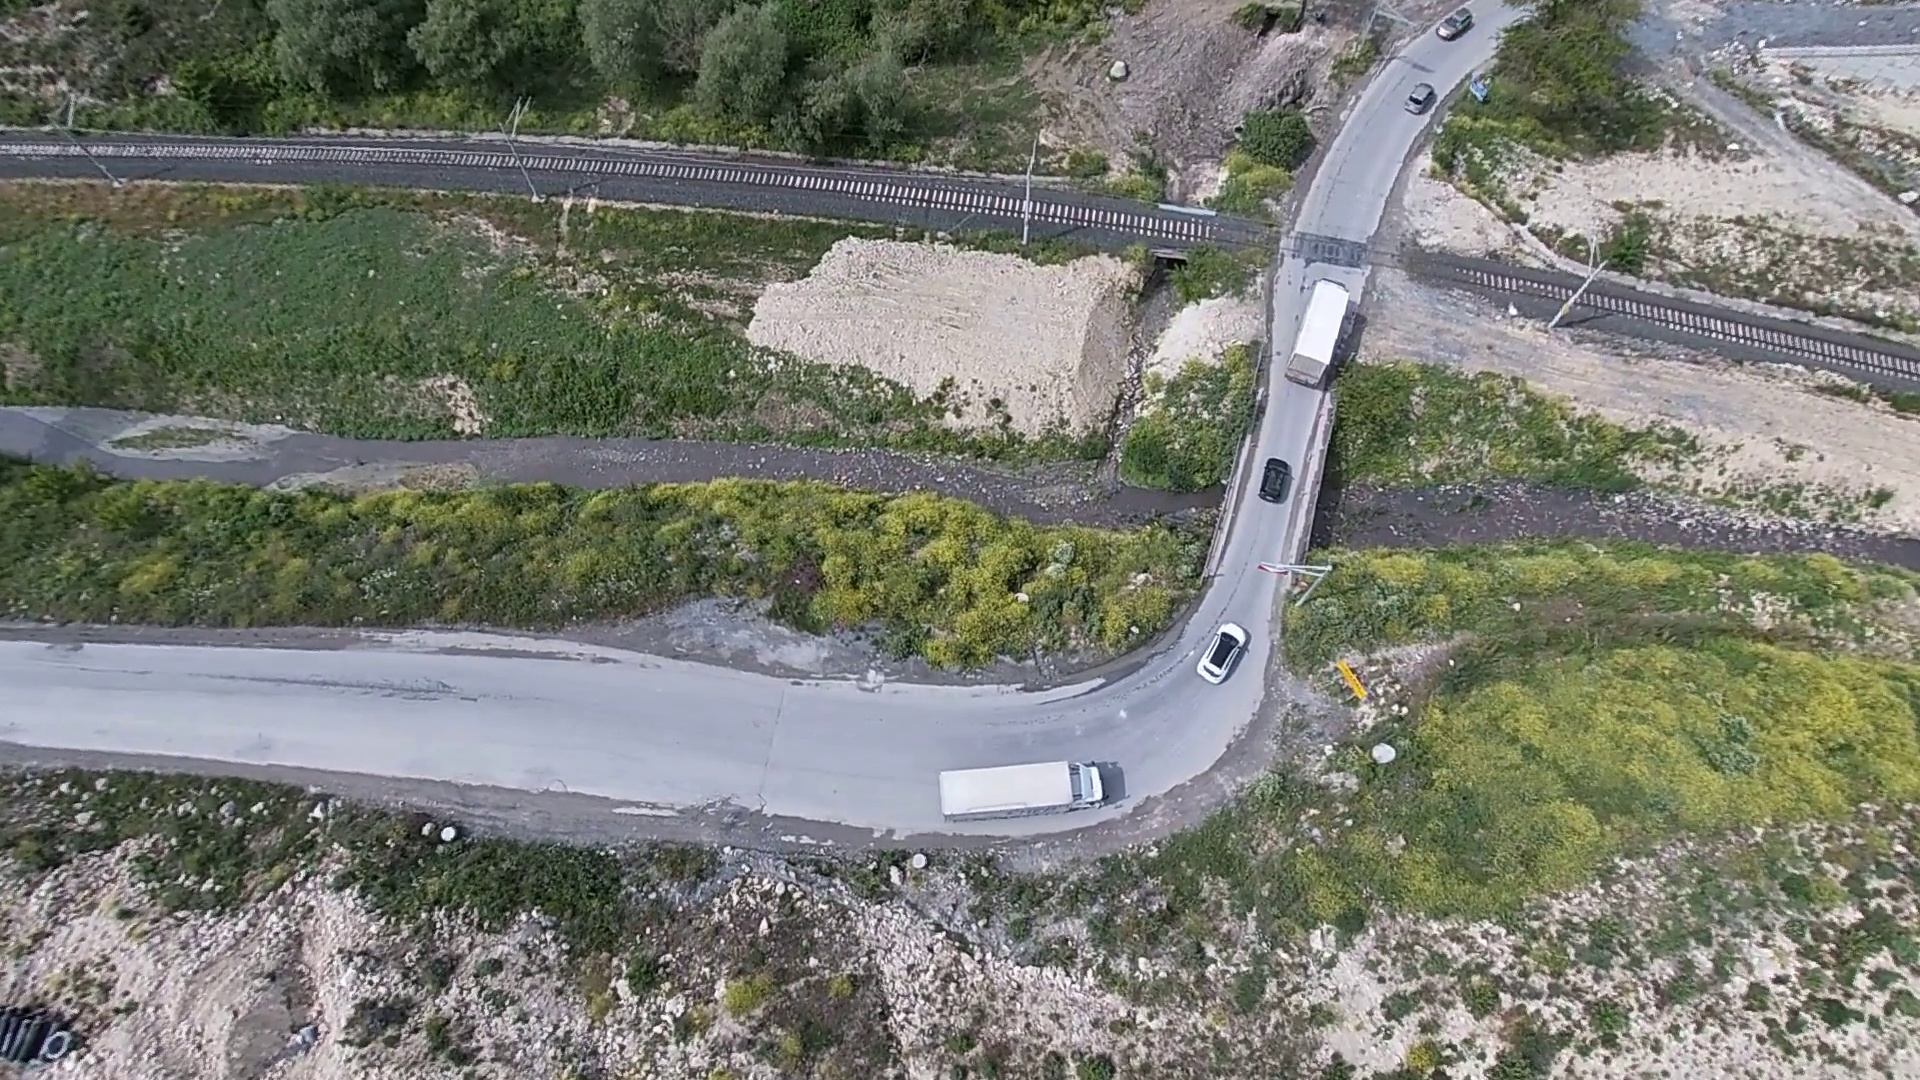arac: (931, 762, 1116, 818), (1287, 266, 1345, 369), (1184, 620, 1261, 691), (1254, 454, 1304, 514), (1408, 80, 1449, 129), (1436, 11, 1487, 42)
